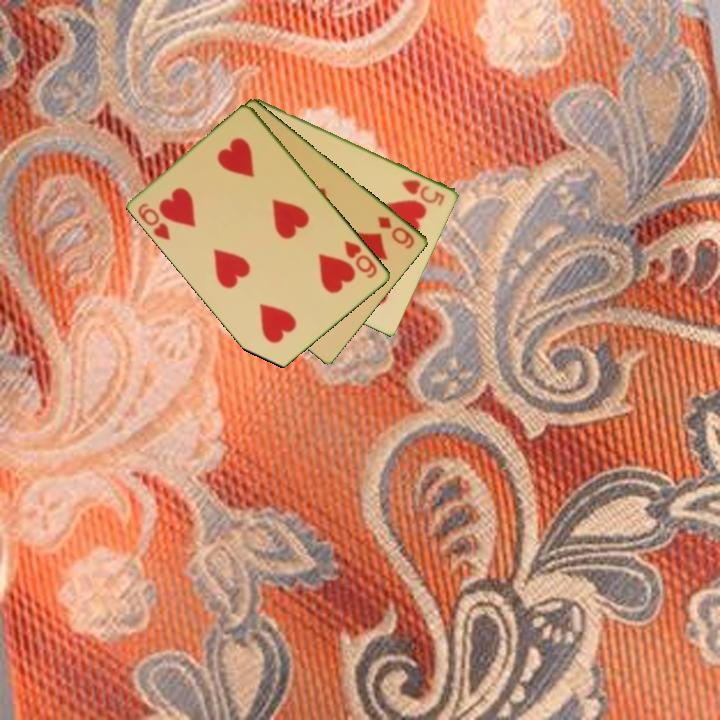5h: (399, 175, 448, 209)
6d: (374, 213, 418, 252)
6h: (341, 237, 381, 281), (134, 199, 174, 243)
